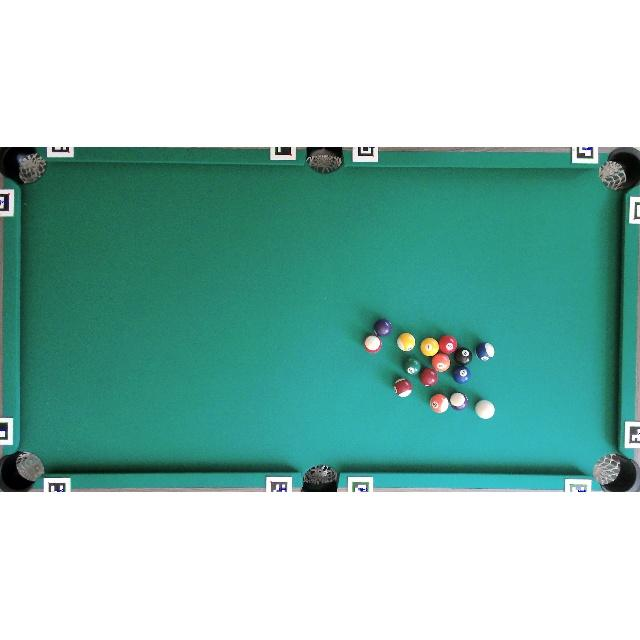cue ball: (475, 400, 495, 420)
other: (474, 342, 496, 362), (363, 334, 383, 354), (420, 338, 439, 357), (438, 335, 457, 354), (419, 368, 438, 387), (402, 357, 421, 376), (397, 332, 415, 352), (430, 393, 448, 413), (373, 318, 392, 336), (432, 353, 450, 372), (452, 365, 470, 384), (454, 348, 472, 366), (394, 379, 412, 397), (450, 392, 468, 410)
